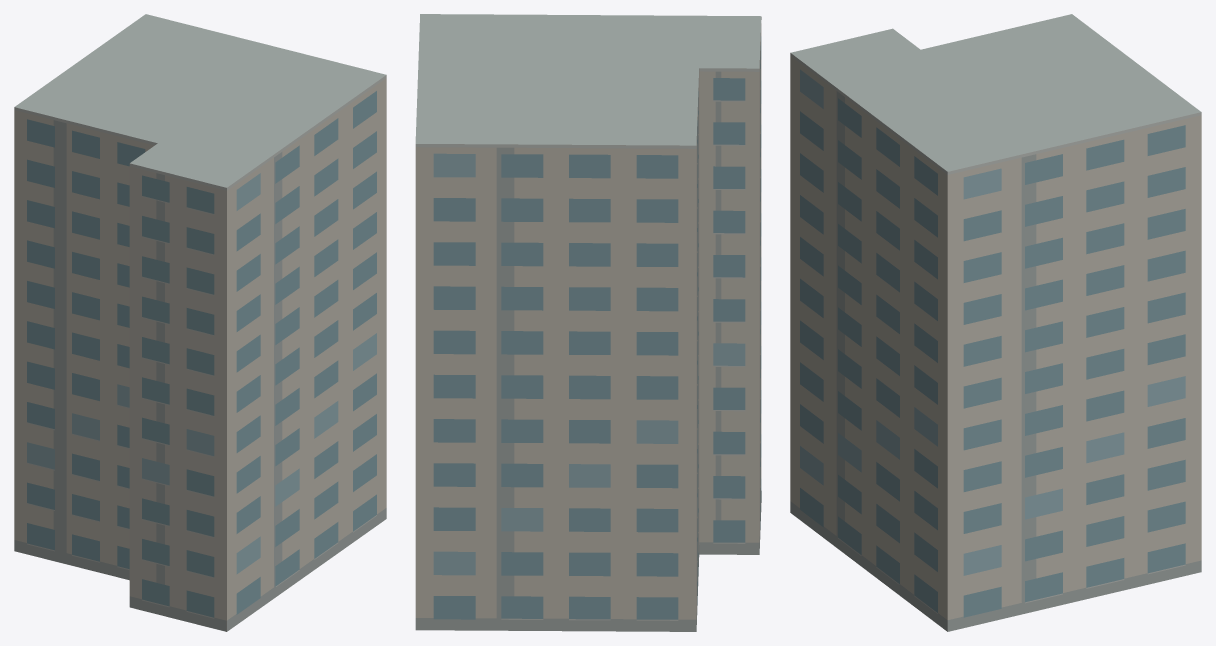
Rendered from residential-86d782e7-cce1-4e72-b864-08cb7fef548e.glb.
The picture shows the model from 3 angles, left to right: view 1: azimuth 30°, elevation 25°; view 2: azimuth 150°, elevation 25°; view 3: azimuth 270°, elevation 25°; orthographic projection. The views are drawn at different scales.
Visible parts, largest first — view 1: residential-86d782e7-cce1-4e72-b864-08cb7fef548e.tmp; view 2: residential-86d782e7-cce1-4e72-b864-08cb7fef548e.tmp; view 3: residential-86d782e7-cce1-4e72-b864-08cb7fef548e.tmp.
Boxes of the visible parts, x1,y1,x2,y2 form: residential-86d782e7-cce1-4e72-b864-08cb7fef548e.tmp: (14, 14, 386, 631); residential-86d782e7-cce1-4e72-b864-08cb7fef548e.tmp: (415, 14, 761, 631); residential-86d782e7-cce1-4e72-b864-08cb7fef548e.tmp: (790, 14, 1201, 631).
Size of the model in its own units: 26.51 by 36 by 29.17.
